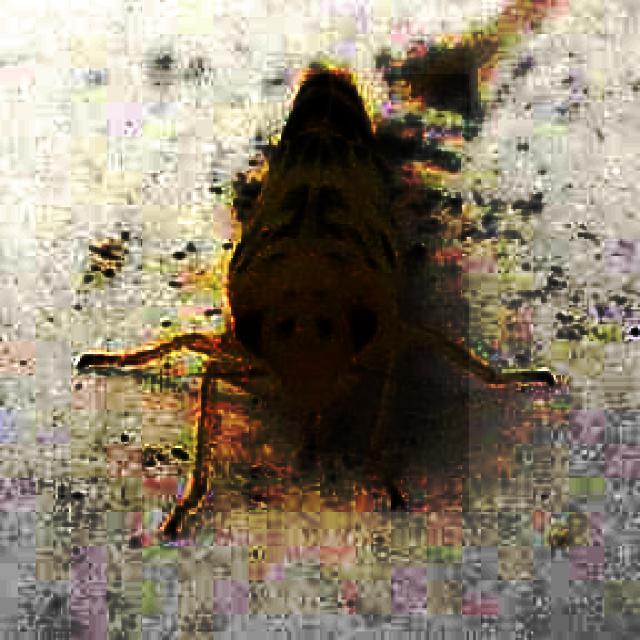green-leafhopper: (95, 74, 469, 512)
